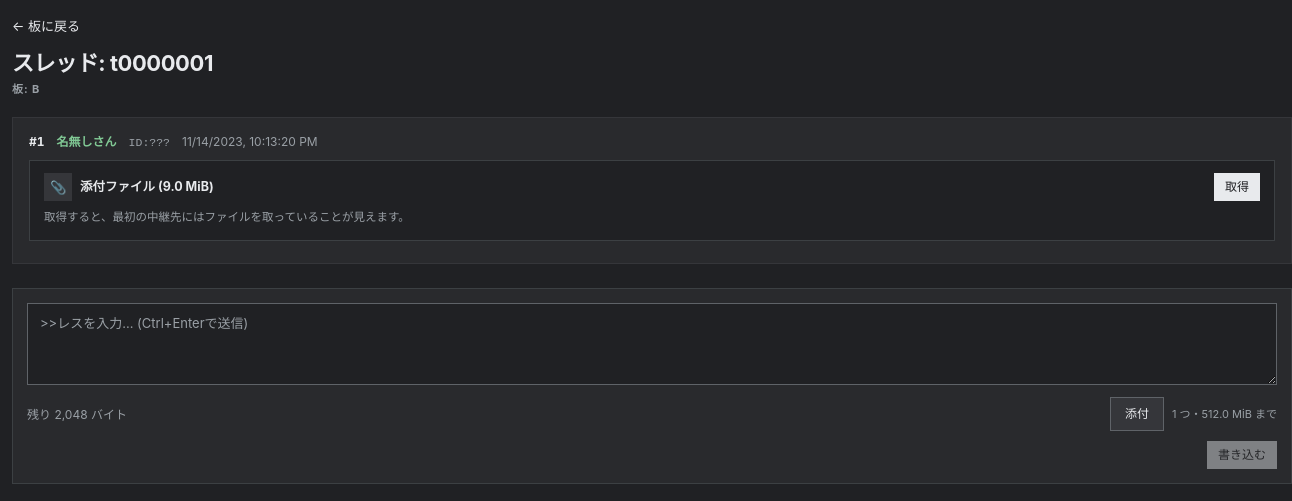
Test: 投稿の中の添付カード › 画像でも 8MiB を超えるものはプレビューしない
The width and height of the screenshot is (1292, 501).
Click the button with aria-label "添付ファイルを取得". click: (1237, 187)
box: top-left (1214, 173), bottom-right (1260, 201)
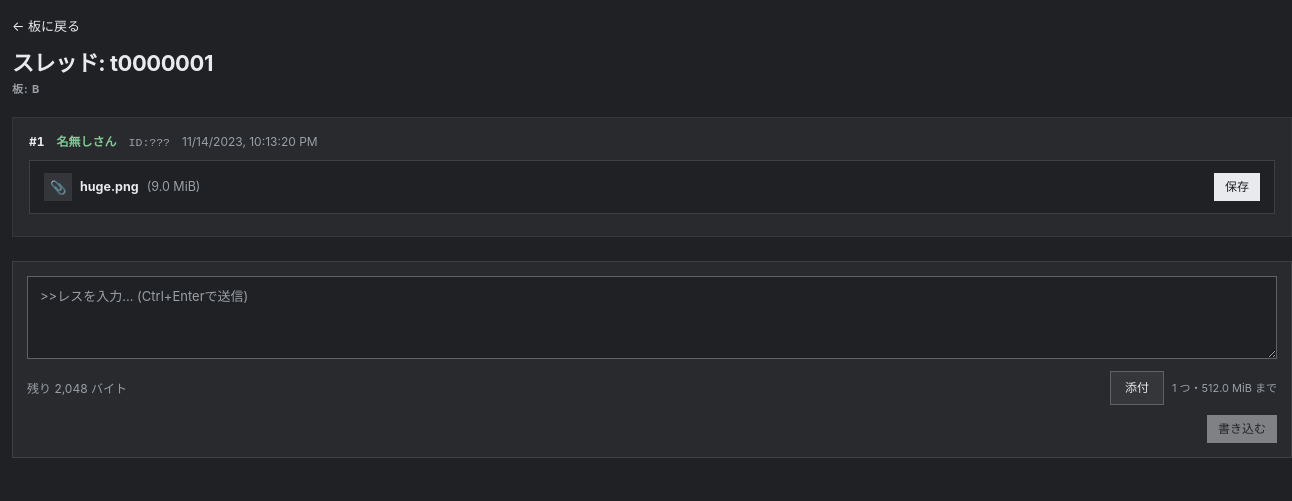
Check: the button with aria-label "huge.png を保存" is shown, box top-left (1214, 173), bottom-right (1260, 201)
